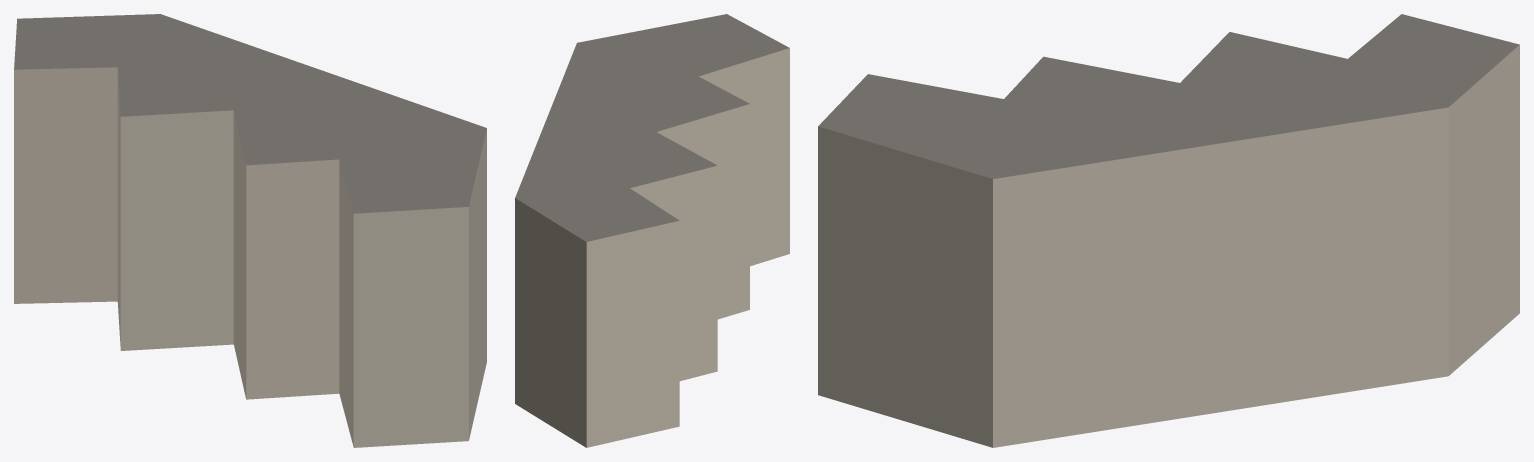
3 views of the same model, side by side, from view 1: azimuth 30°, elevation 25°; view 2: azimuth 150°, elevation 25°; view 3: azimuth 270°, elevation 25° (orthographic). The views are drawn at different scales.
Parts seen in each view (by area): view 1: HP-w1159135724; view 2: HP-w1159135724; view 3: HP-w1159135724.
Boxes of the visible parts, bbox=[...] form: HP-w1159135724: bbox=[14, 14, 486, 447]; HP-w1159135724: bbox=[515, 14, 789, 447]; HP-w1159135724: bbox=[818, 14, 1519, 447].
Size of the model in its own units: 23.72 by 18 by 42.59.
